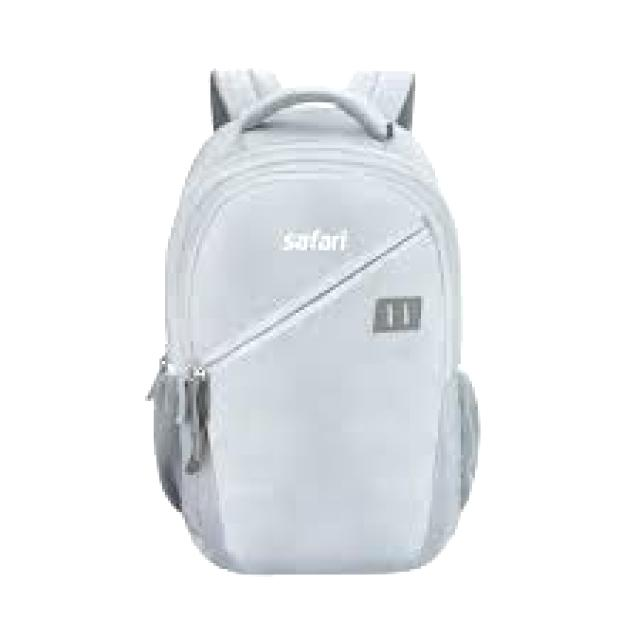backpack: (146, 64, 482, 576)
